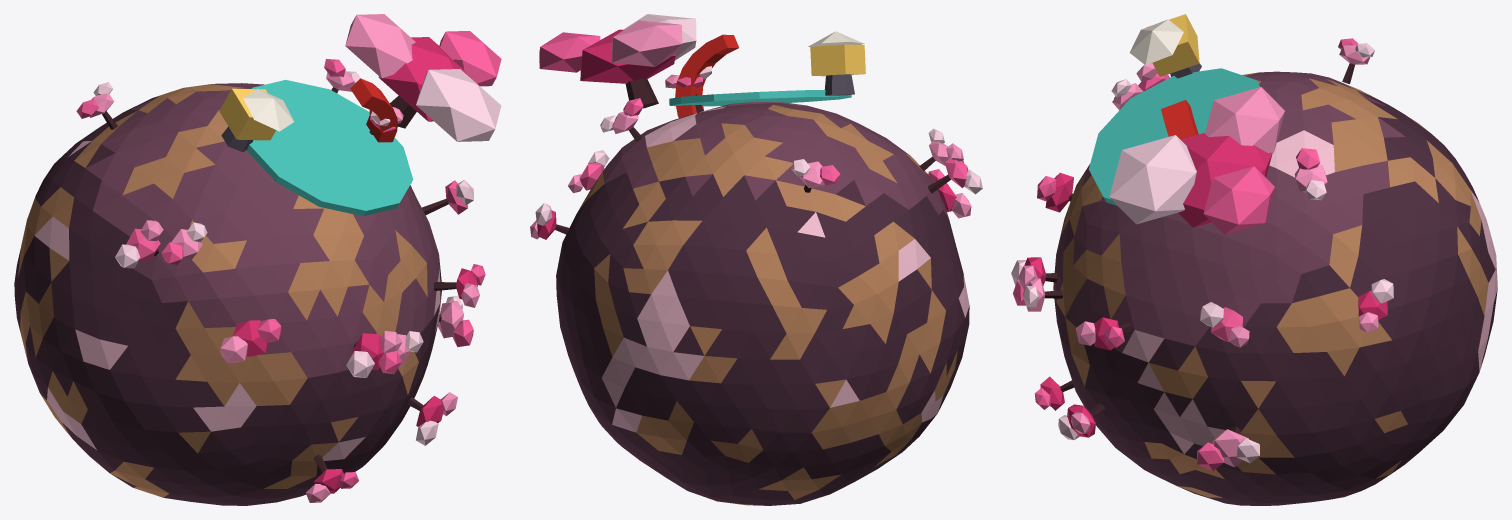
Rendered from Sakura_04.fbx.
3 views of the same model, side by side, from view 1: azimuth 30°, elevation 25°; view 2: azimuth 150°, elevation 25°; view 3: azimuth 270°, elevation 25° (orthographic). The views are drawn at different scales.
Parts seen in each view (by area): view 1: Sakura_04; view 2: Sakura_04; view 3: Sakura_04.
Boxes of the visible parts, <box> form: Sakura_04: <box>14,14,501,505</box>; Sakura_04: <box>530,14,982,505</box>; Sakura_04: <box>1011,14,1497,505</box>.
Bounding box in the file's own units: 7.1 × 6.9 × 6.62.
Materials: 1 (1 with a texture image).
